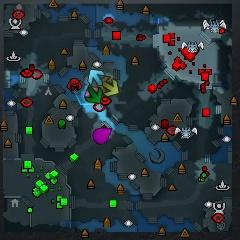p3: (93, 127, 111, 144)
x1: (85, 86, 99, 97)
x2: (103, 78, 119, 96)
x3: (88, 69, 104, 86)
x4: (86, 86, 103, 103)
x5: (100, 75, 110, 82)
